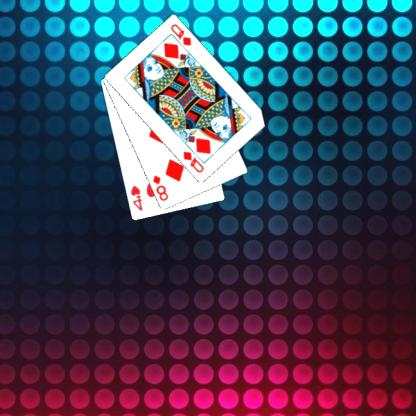4H: (130, 182, 146, 212)
8D: (152, 172, 172, 202)
QD: (182, 149, 208, 174), (170, 21, 194, 48)
